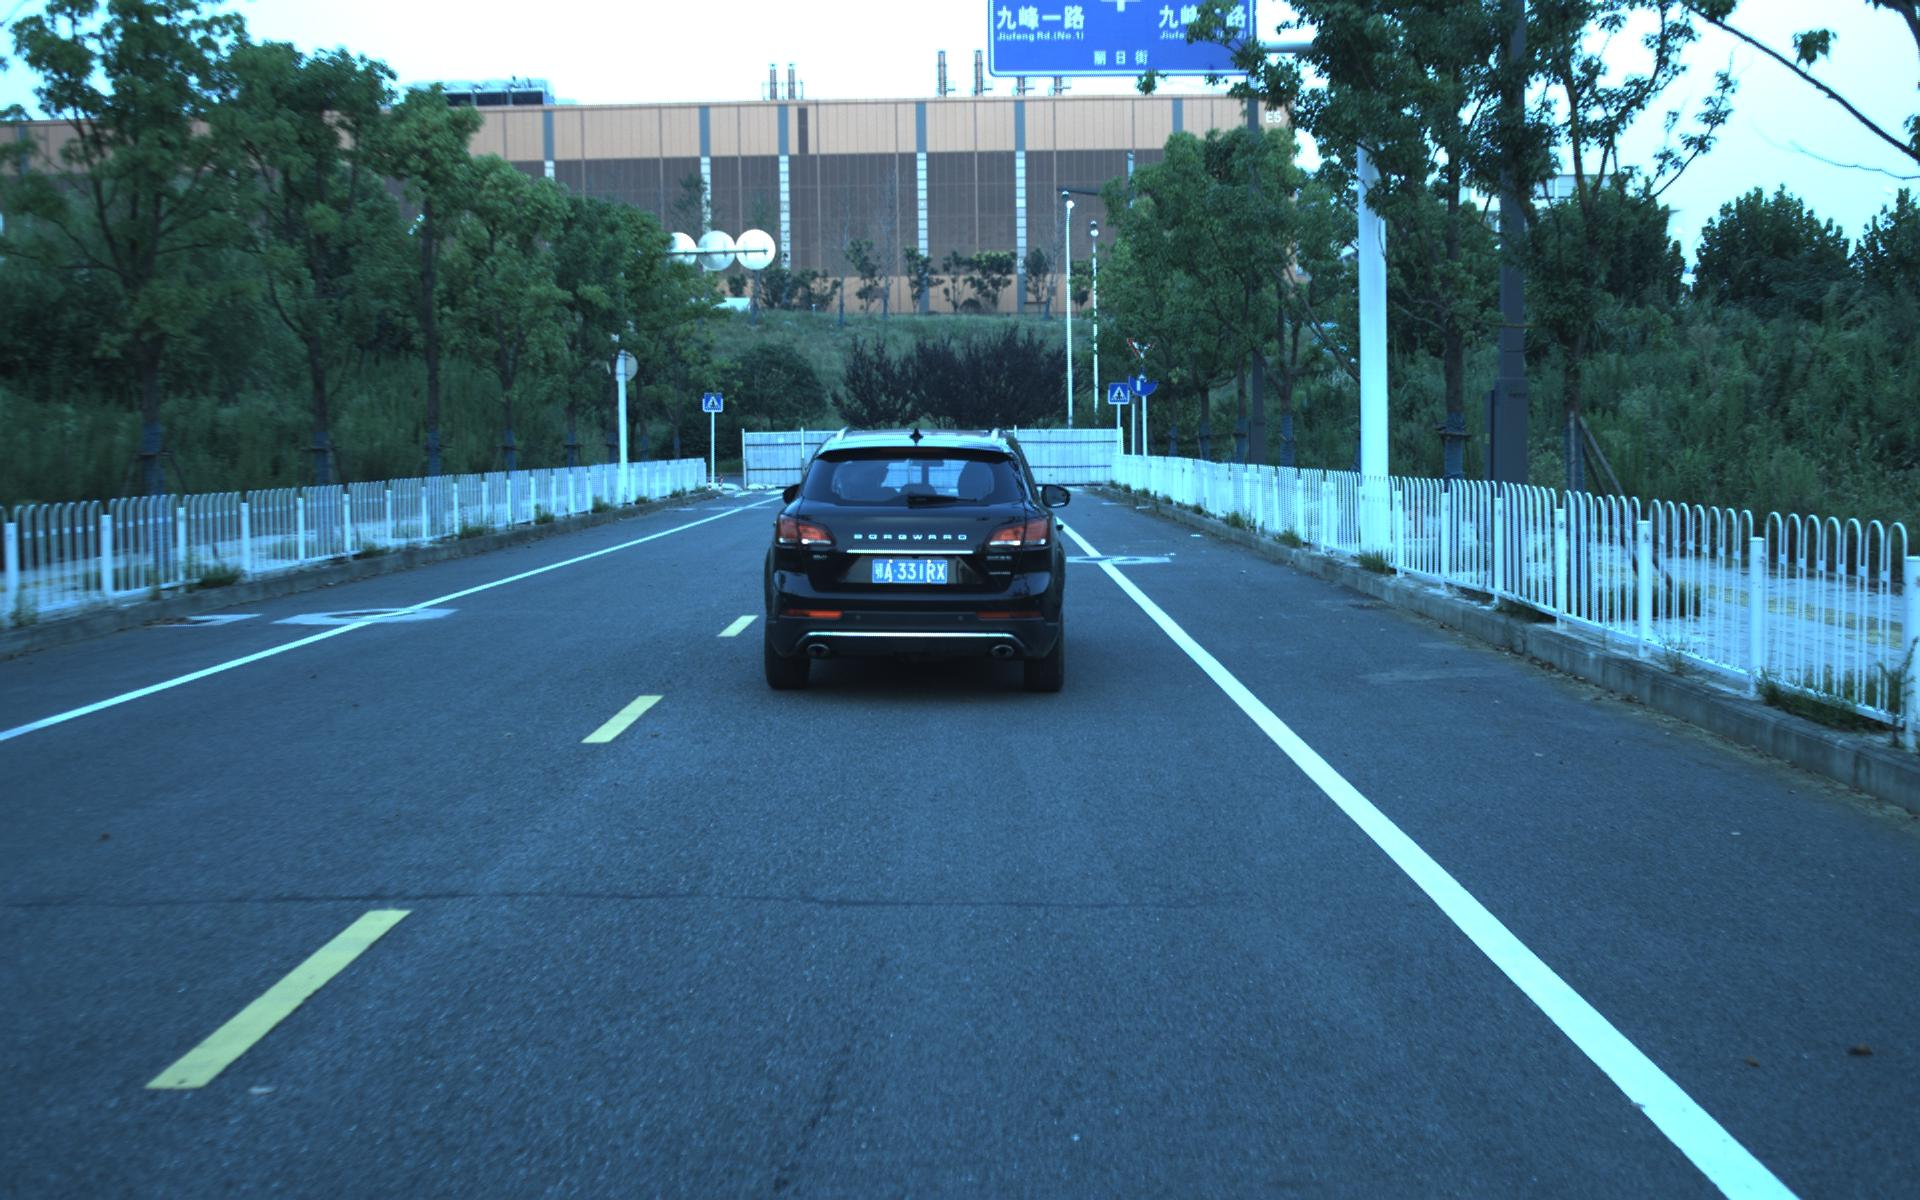Car: (760, 422, 1064, 695)
